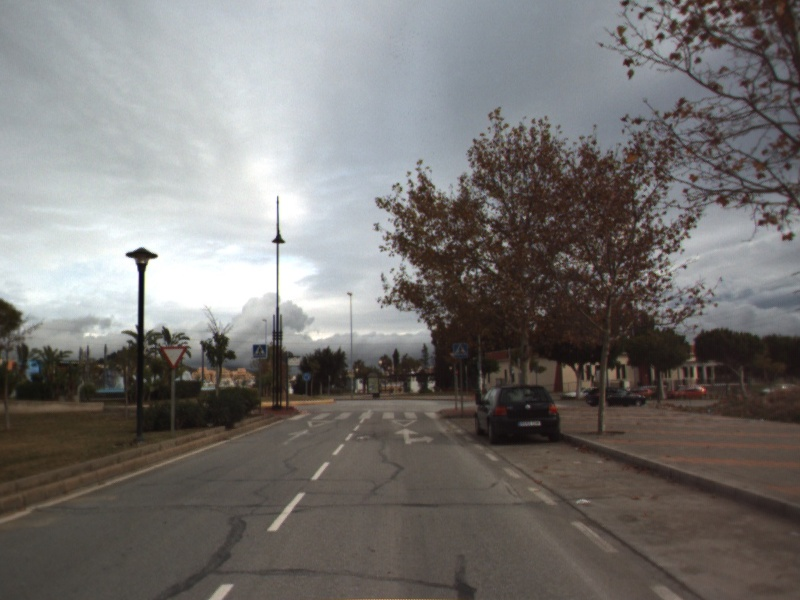STRAIGHT: (280, 427, 315, 447)
STRAIGHT_RIGHT: (392, 426, 436, 446)
